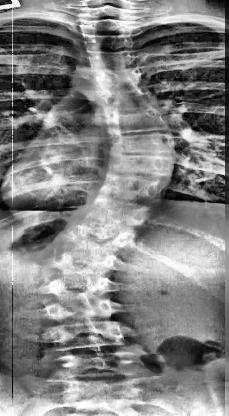Vertebrae: (53, 349, 145, 377), (44, 323, 128, 351), (84, 195, 156, 227), (47, 274, 123, 302), (59, 224, 131, 250), (54, 246, 119, 274), (103, 176, 168, 204), (113, 132, 176, 160), (106, 115, 174, 140), (46, 300, 114, 324), (110, 155, 178, 179), (99, 90, 160, 116), (89, 48, 139, 74), (94, 70, 148, 92), (86, 32, 132, 53), (85, 17, 129, 38)
